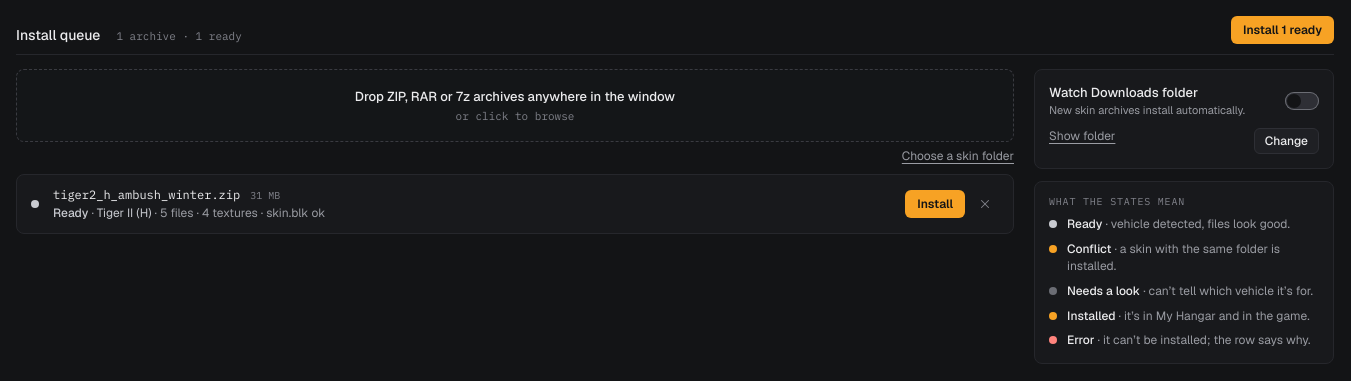
Test: Install queue — installing › marks a failed install as an error with its message
Click the button "Install".
click(935, 204)  # box [905,190,965,218]
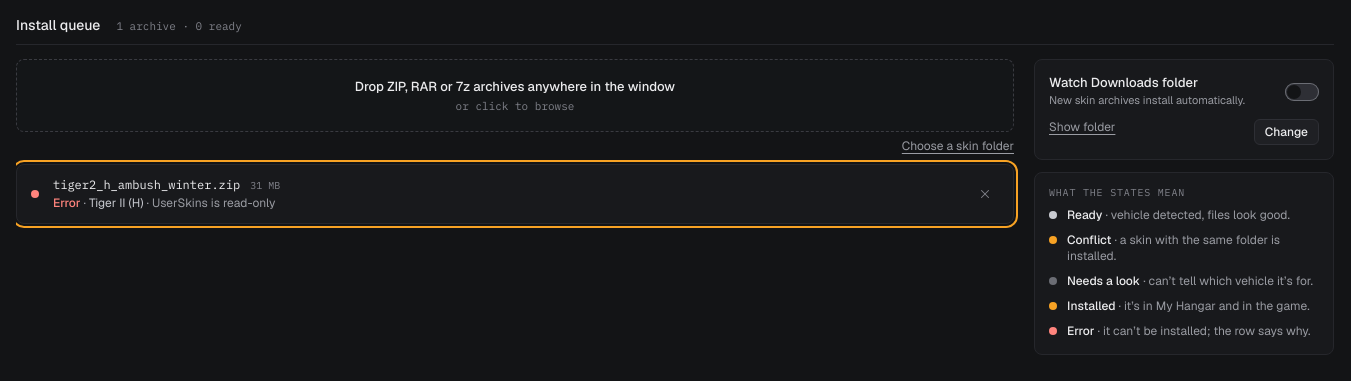
Check: the list item "tiger2_h_ambush_winter.zip" shows "Error · Tiger II (H) · UserSkins is read-only", box [16,164,1014,224]
